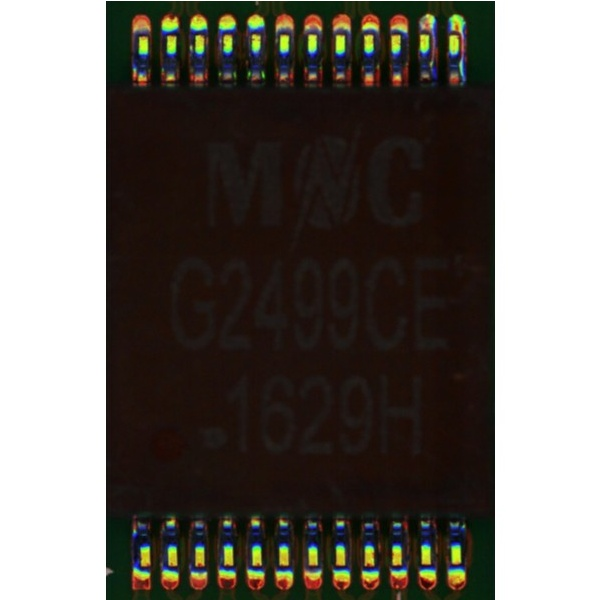Bad_podu: (420, 22, 429, 39), (451, 22, 459, 40)
Bad_qiaojiao: (458, 32, 464, 86), (429, 32, 435, 79)
